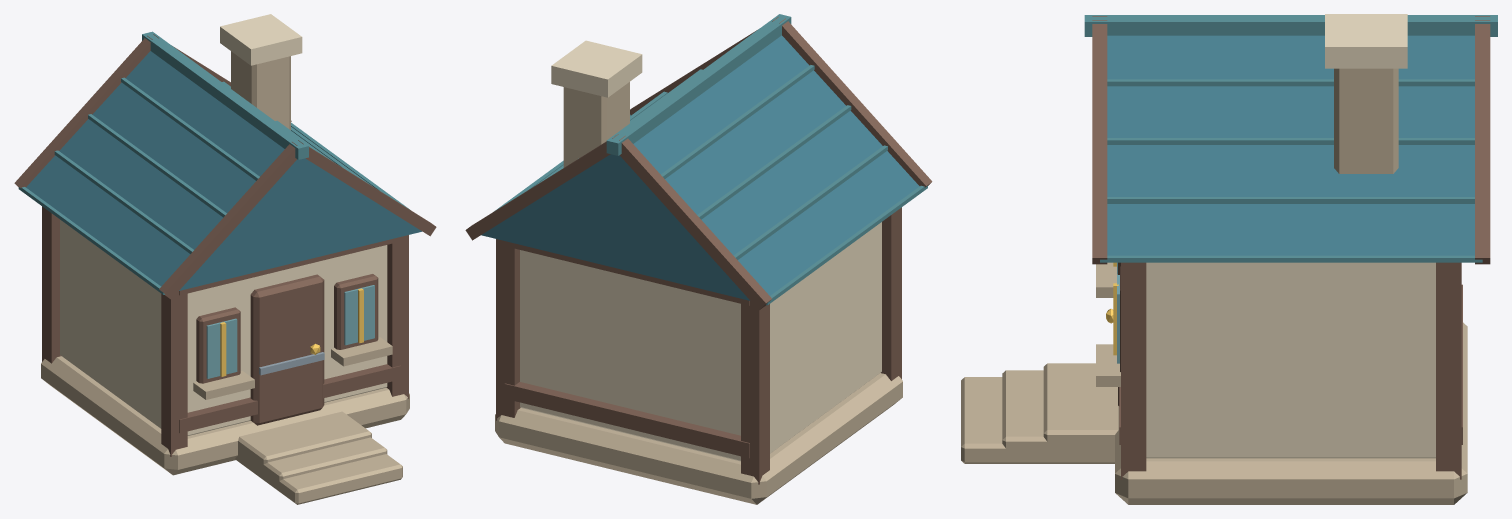
Rendered from house.glb.
3 renders of one model, left to right at view 1: azimuth 30°, elevation 25°; view 2: azimuth 150°, elevation 25°; view 3: azimuth 270°, elevation 25°, orthographic. The views are drawn at different scales.
Parts seen in each view (by area): view 1: house; view 2: house; view 3: house.
Part boxes in pixels (x1,y1,x2,y2): house: (14, 14, 436, 504); house: (465, 14, 932, 504); house: (961, 14, 1497, 504).
Size of the model in its own units: 2.76 by 3.25 by 3.58.
